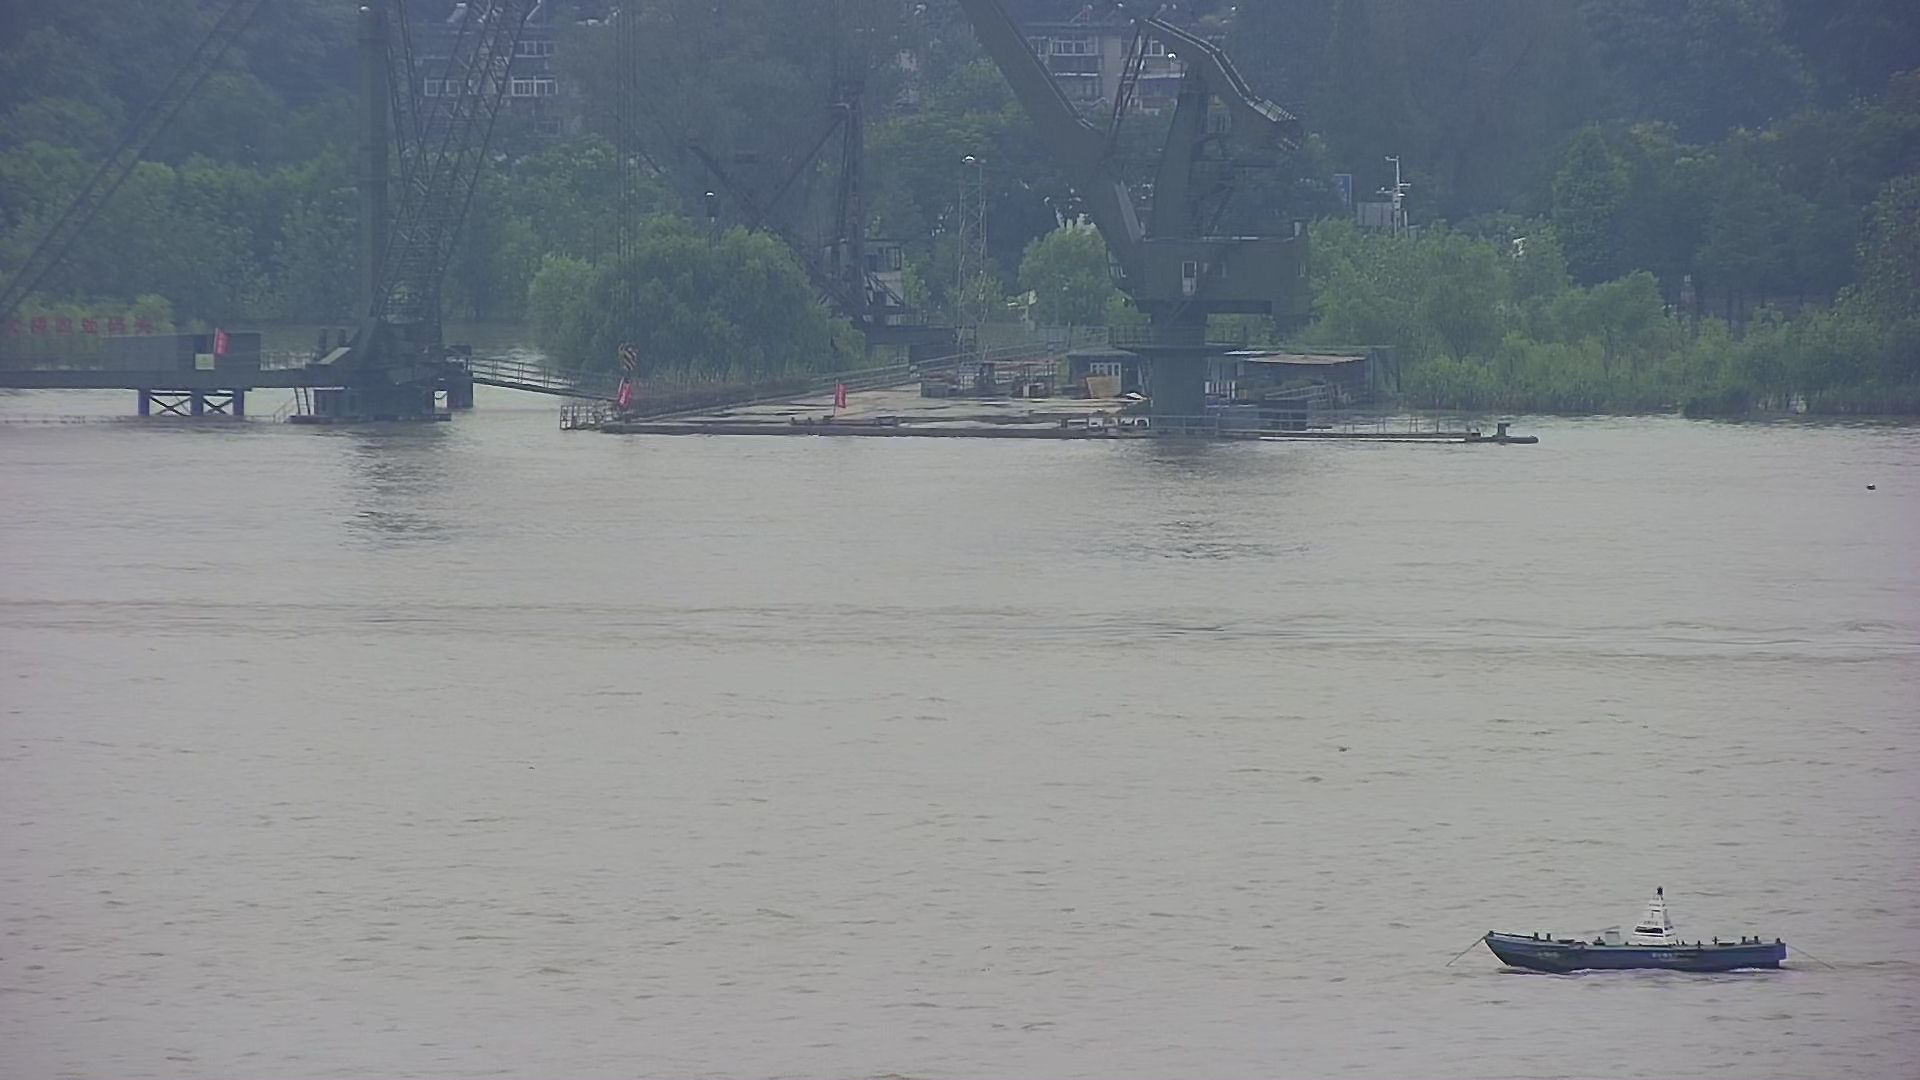boat: (1455, 869, 1803, 973)
platform: (1, 1, 530, 433)
